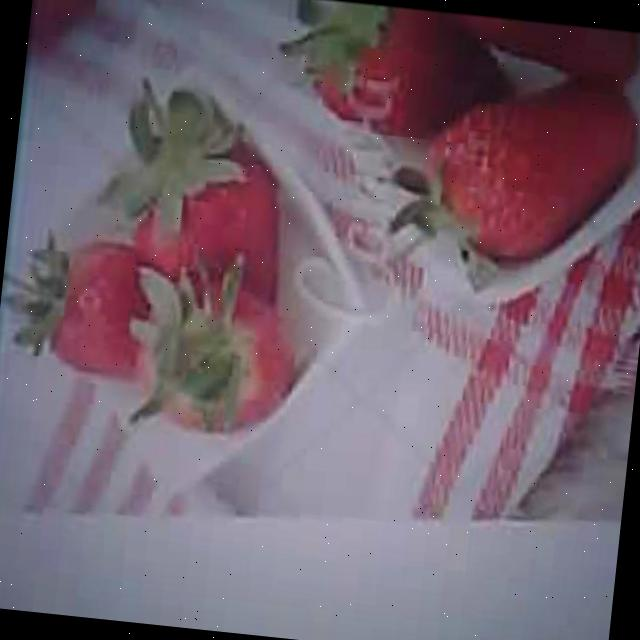strawberry: (417, 70, 640, 269)
